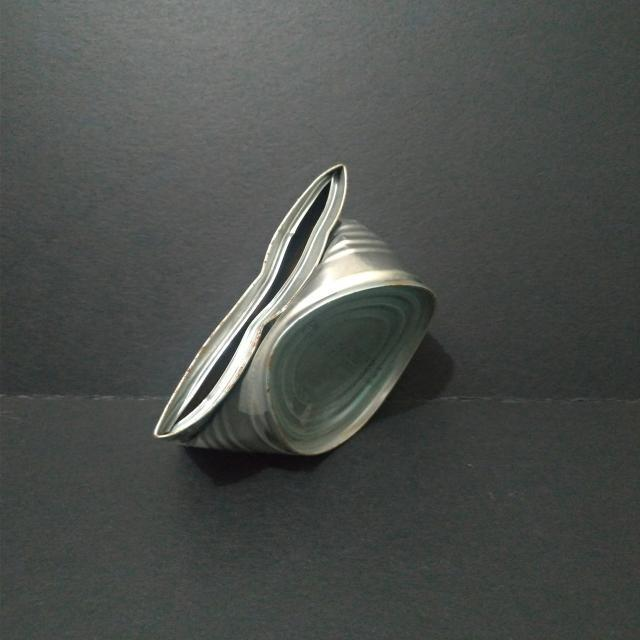metal-can: (148, 160, 444, 460)
